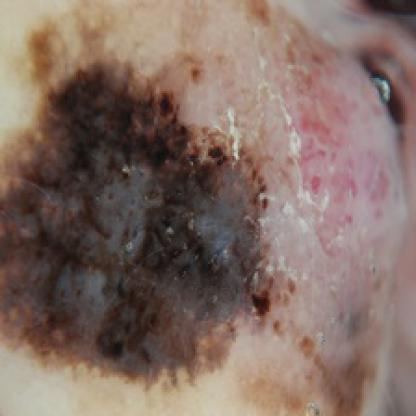malignant: (7, 58, 394, 380)
